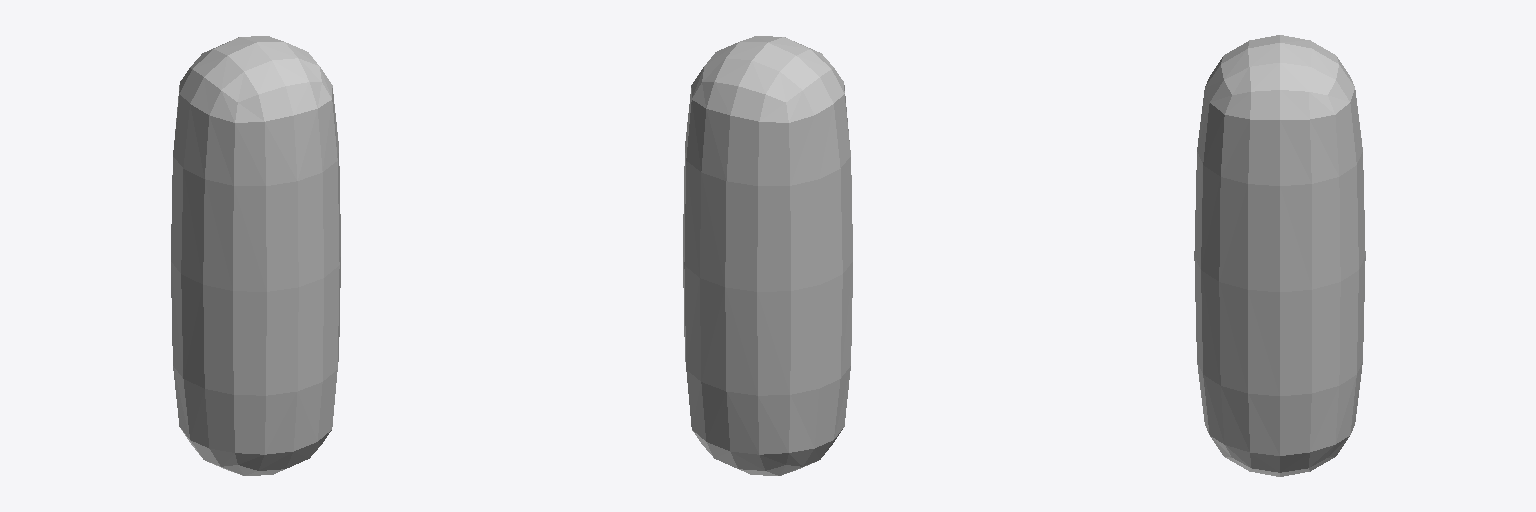
The model's file is Krio kamera.OBJ.
3 views of the same model, side by side, from view 1: azimuth 30°, elevation 25°; view 2: azimuth 150°, elevation 25°; view 3: azimuth 270°, elevation 25° (orthographic).
Visible parts, largest first — view 1: Group25182; view 2: Group25182; view 3: Group25182.
Boxes of the visible parts, <box> form: Group25182: <box>171,36,340,475</box>; Group25182: <box>683,36,852,475</box>; Group25182: <box>1194,35,1365,476</box>.
Size of the model in its own units: 0.5808 by 1.58 by 0.5757.